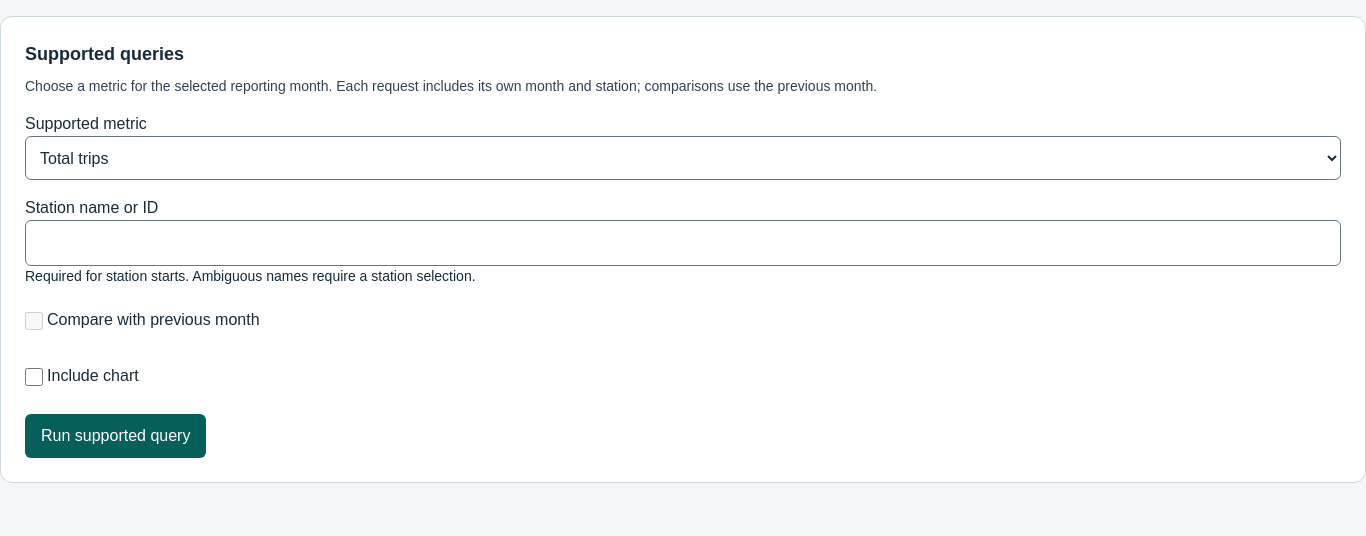
handles network without fabricated report
The image size is (1366, 536).
What coordinates should you click on to do the following:
click the button "Run supported query"
I would click on:
 (116, 436)
Its box is x1=25 y1=414 x2=206 y2=458.
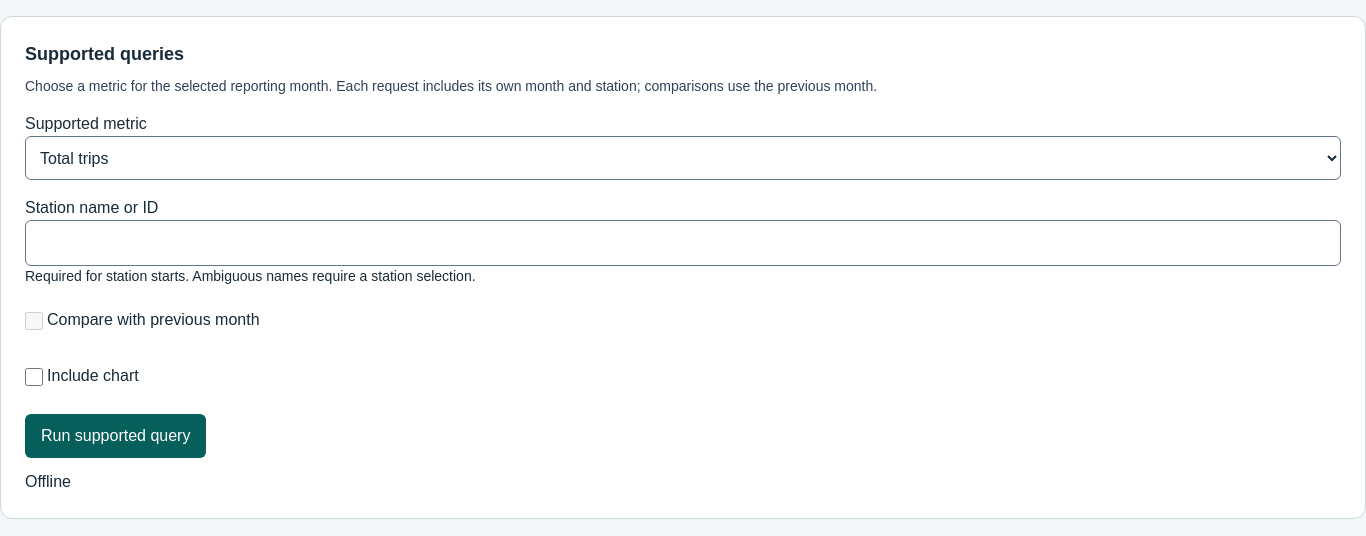
Now the message reads "Offline", box x1=25 y1=473 x2=71 y2=490
